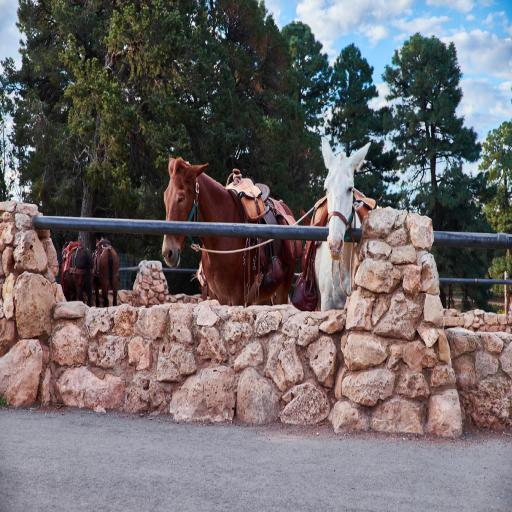horse: (160, 152, 304, 306), (309, 136, 381, 306), (60, 240, 95, 304), (92, 238, 120, 308)
